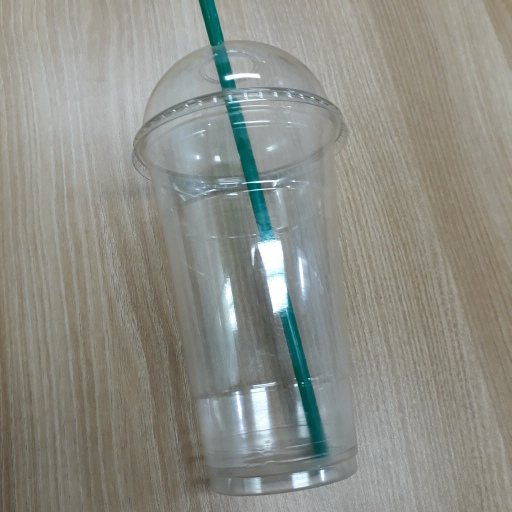Plastic_2: (128, 2, 370, 498)
